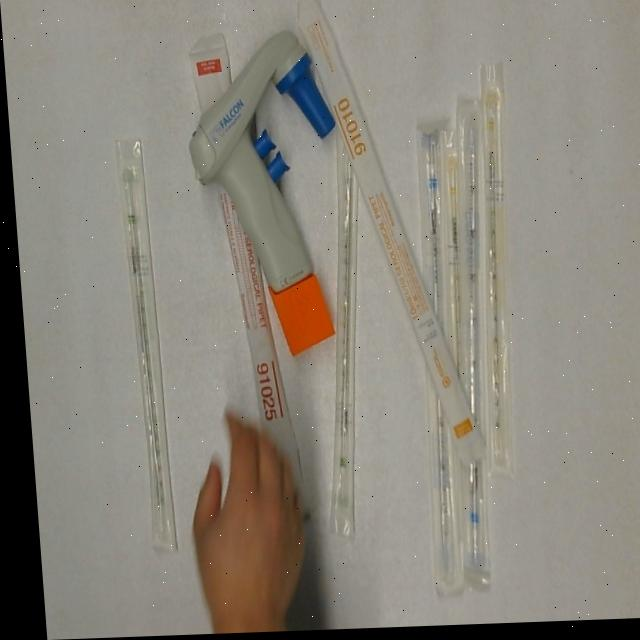Pipette Controller: (177, 32, 350, 364)
Serelogical Pipet 1 mL - Sealed: (454, 64, 532, 480), (425, 131, 477, 384)
Serelogical Pipet 10 mL - Sealed: (295, 0, 478, 474)
Serelogical Pipet 2 mL - Sealed: (294, 121, 383, 539), (114, 137, 172, 557)
Serelogical Pipet 25 mL - Sealed: (184, 27, 310, 528)
Serelogical Pipet 5 mL - Sealed: (427, 100, 510, 580), (396, 116, 471, 599)
